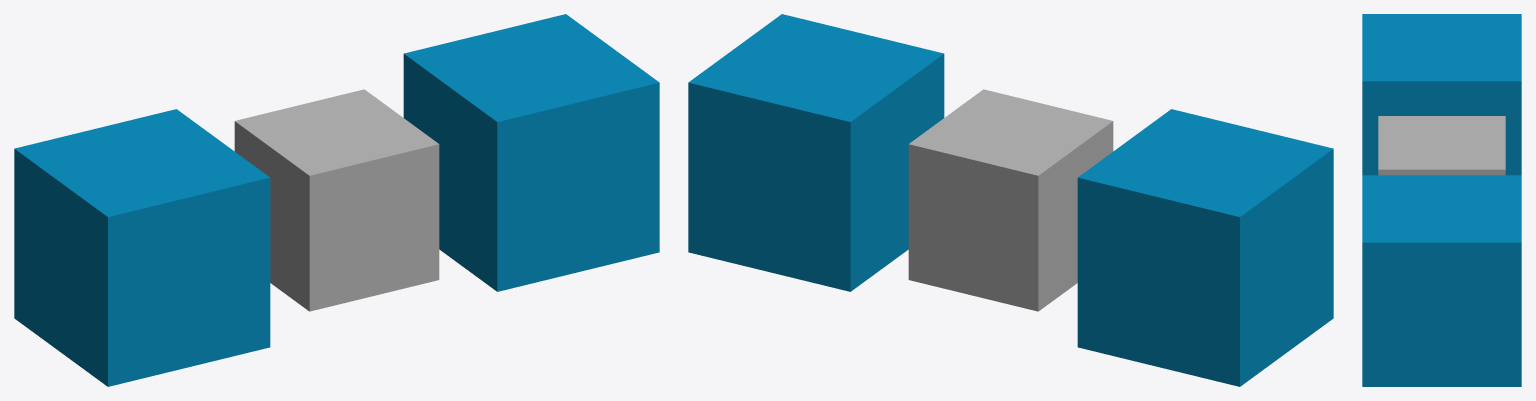
Rendered from satellite.glb.
3 views of the same model, side by side, from view 1: azimuth 30°, elevation 25°; view 2: azimuth 150°, elevation 25°; view 3: azimuth 270°, elevation 25° (orthographic). The views are drawn at different scales.
Bounding box in the file's own units: 1.7 × 0.5 × 0.5.
